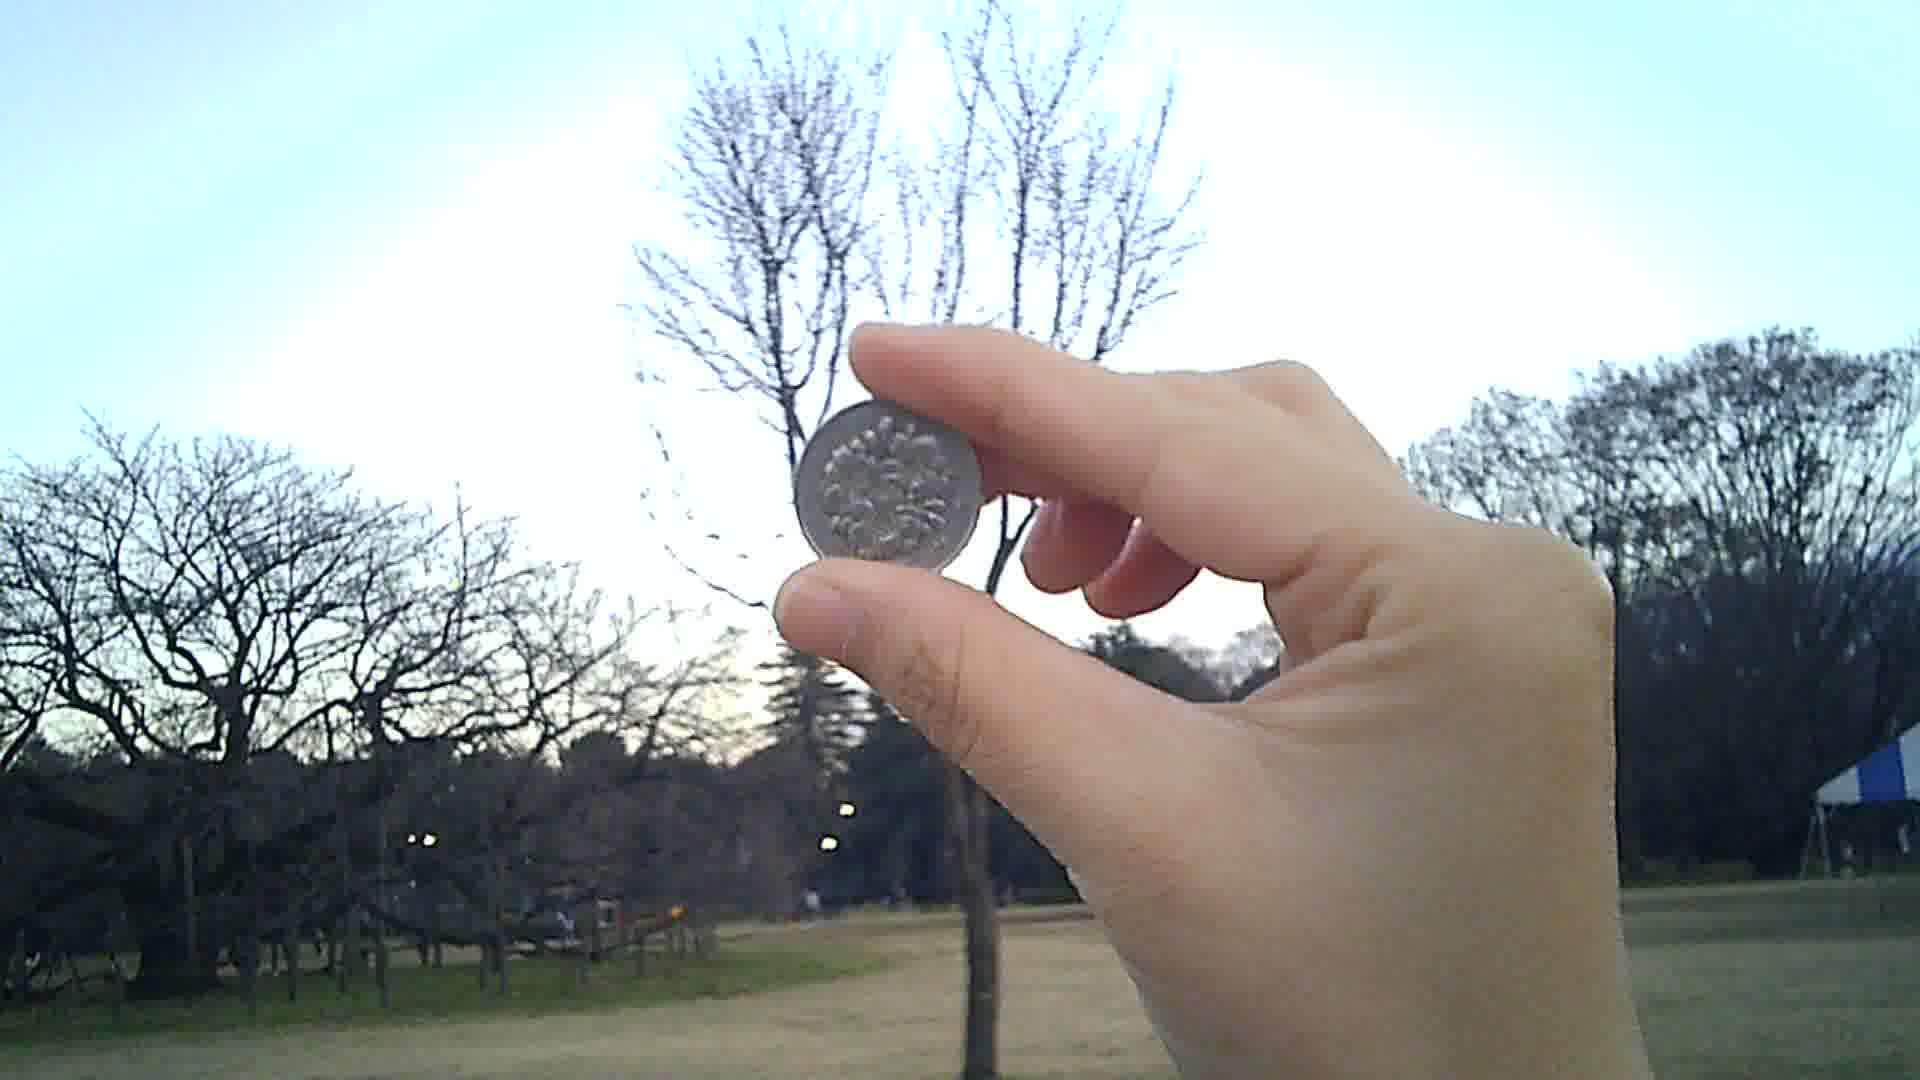100 Yen: (785, 396, 989, 584)
